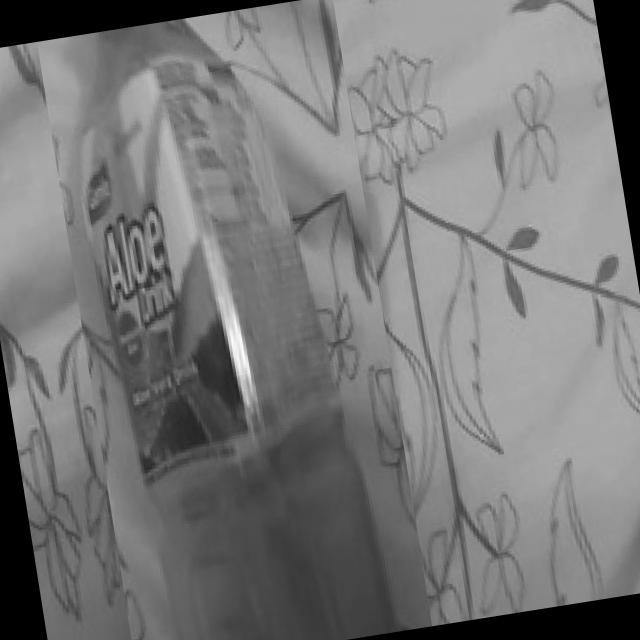good: (37, 0, 385, 640)
